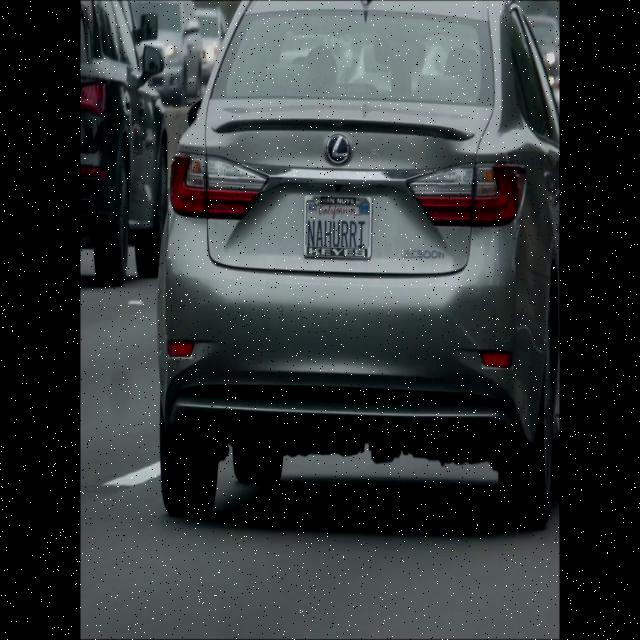licenseplate: (303, 189, 373, 264)
